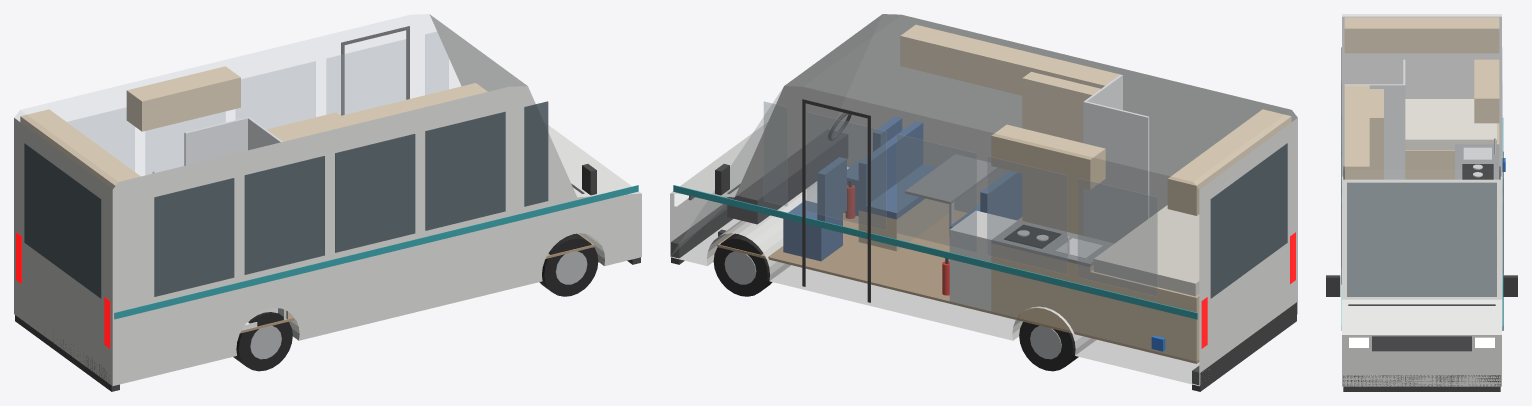
File: force_traveller-widerbody_4020wb.glb
The picture shows the model from 3 angles, left to right: view 1: azimuth 30°, elevation 25°; view 2: azimuth 150°, elevation 25°; view 3: azimuth 270°, elevation 25°; orthographic projection. The views are drawn at different scales.
Parts seen in each view (by area): view 1: Body_Shell, Body_Cutaway_LeftWall_Roof, Window_Right_0, Window_Right_1, Window_Right_2, Window_Right_3, Window_Rear, Storage_Overhead_Left_Kitchen, Window_Left_0, Window_Left_1, Stripe_Right, Storage_Overhead_Rear (+12 smaller); view 2: Body_Cutaway_LeftWall_Roof, Body_Shell, Window_Left_2, Window_Left_1, Window_Left_3, Window_Rear, Window_Left_0, WetRoom_Wall_Side, Floor_Living, Storage_Overhead_Right, Storage_Wardrobe_Tall, Bed_Platform_Fixed_Rear (+28 smaller); view 3: Body_Shell, Body_Cutaway_LeftWall_Roof, Windscreen, Storage_Overhead_Rear, Bed_Mattress_Double, Storage_Overhead_Right, WetRoom_Wall_Front, Bumper_Front, Storage_Overhead_Left_Kitchen, Grille, Bed_Platform_Fixed_Rear, Storage_Wardrobe_Tall (+10 smaller).
Part boxes in pixels (x1,y1,x2,y2): Body_Shell: [14, 14, 641, 386]; Body_Cutaway_LeftWall_Roof: [14, 14, 526, 188]; Window_Right_0: [425, 111, 505, 230]; Window_Right_1: [335, 134, 415, 252]; Window_Right_2: [244, 156, 324, 274]; Window_Right_3: [154, 178, 234, 296]; Window_Rear: [24, 143, 101, 298]; Storage_Overhead_Left_Kitchen: [126, 66, 240, 131]; Window_Left_0: [326, 39, 405, 114]; Window_Left_1: [236, 61, 315, 128]; Stripe_Right: [114, 185, 638, 319]; Storage_Overhead_Rear: [20, 109, 140, 189]; Body_Cutaway_LeftWall_Roof: [670, 14, 1296, 385]; Body_Shell: [670, 14, 1297, 386]; Window_Left_2: [987, 156, 1066, 274]; Window_Left_1: [897, 134, 976, 252]; Window_Left_3: [1078, 178, 1157, 296]; Window_Rear: [1210, 143, 1287, 298]; Window_Left_0: [806, 112, 886, 230]; WetRoom_Wall_Side: [1083, 101, 1149, 243]; Floor_Living: [717, 210, 1199, 363]; Storage_Overhead_Right: [900, 24, 1120, 95]; Storage_Wardrobe_Tall: [1022, 71, 1100, 235]; Bed_Platform_Fixed_Rear: [1090, 270, 1199, 361]; Body_Shell: [1342, 16, 1501, 386]; Body_Cutaway_LeftWall_Roof: [1342, 14, 1501, 178]; Windscreen: [1347, 182, 1496, 296]; Storage_Overhead_Rear: [1344, 17, 1499, 53]; Bed_Mattress_Double: [1405, 99, 1496, 149]; Storage_Overhead_Right: [1344, 85, 1369, 179]; WetRoom_Wall_Front: [1344, 84, 1405, 179]; Bumper_Front: [1343, 375, 1500, 391]; Storage_Overhead_Left_Kitchen: [1474, 59, 1499, 123]; Grille: [1372, 336, 1471, 351]; Bed_Platform_Fixed_Rear: [1405, 123, 1499, 179]; Storage_Wardrobe_Tall: [1369, 89, 1383, 179].
Bounding box in the file's own units: 6.98 × 2.85 × 2.68.
